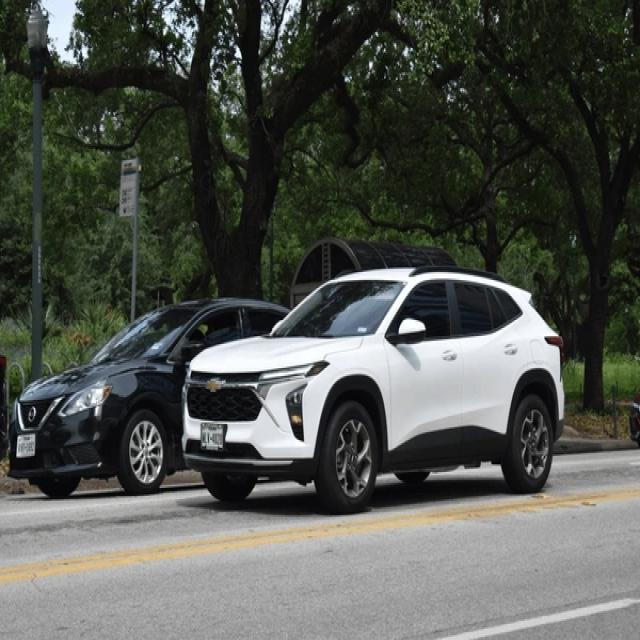chevrolet: (203, 374, 228, 396)
nissan: (26, 404, 37, 423)
